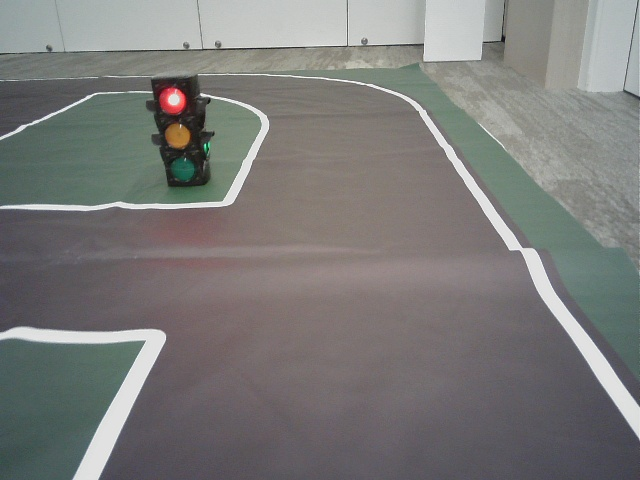red: (157, 82, 197, 180)
